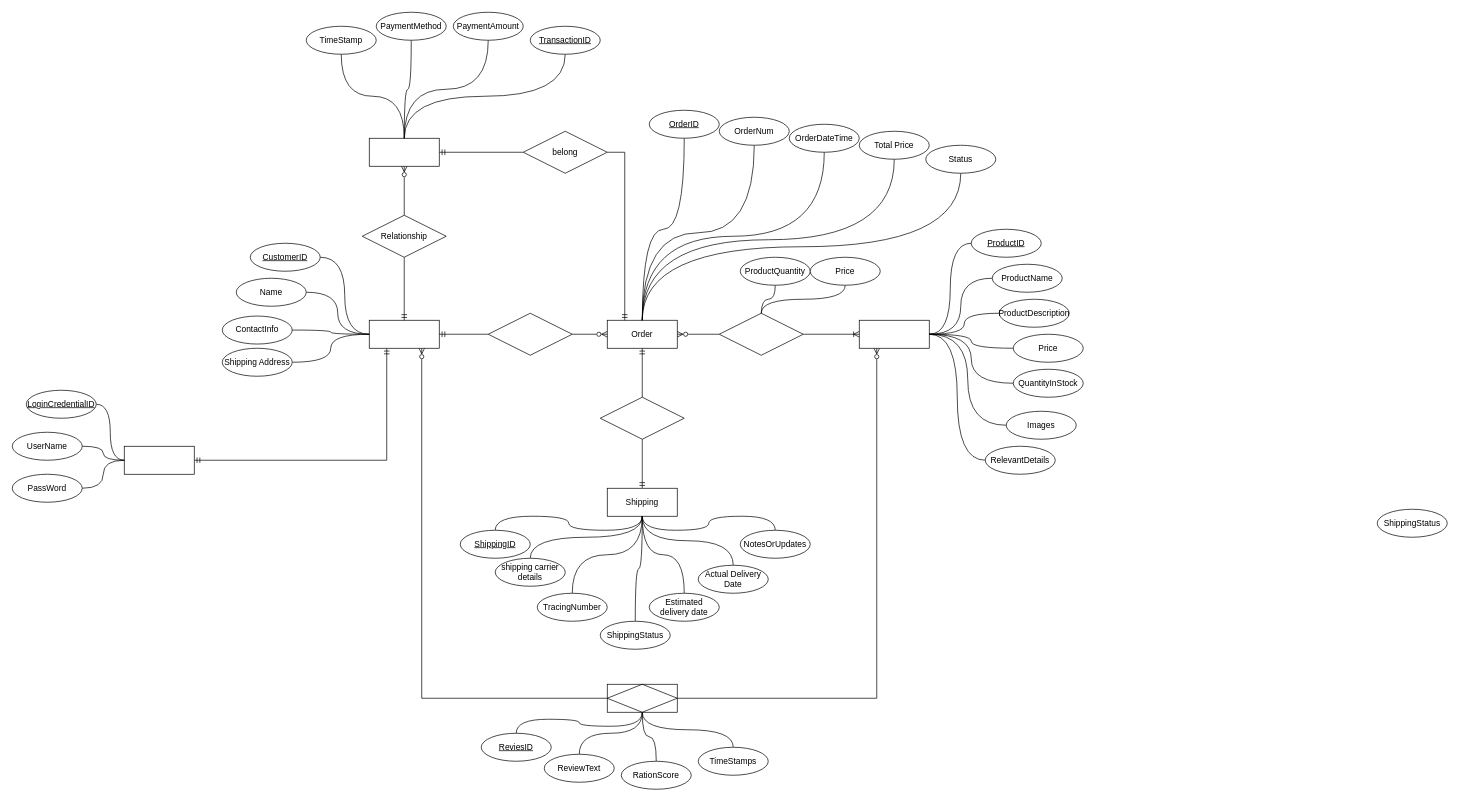
This 1460x802 diagram has some shape labels left out. The box of each missing label's shape, as (x1, y1, x2, y2) in pixels:
Contain: (719, 313, 803, 355)
Customer: (369, 320, 439, 348)
Login Credential: (124, 446, 194, 474)
Product: (859, 320, 929, 348)
Reserve: (488, 313, 572, 355)
Review: (607, 684, 677, 712)
Ship: (600, 397, 684, 439)
Transaction: (369, 138, 439, 166)
